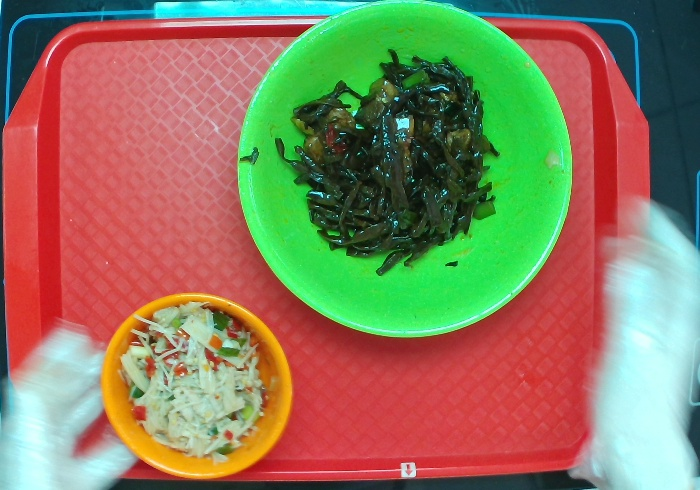YKMZ-Ju_Se_Yuan_Wan: (97, 291, 295, 480)
YKMZ-Lv_Se_Tang_Wan: (232, 1, 574, 335)
